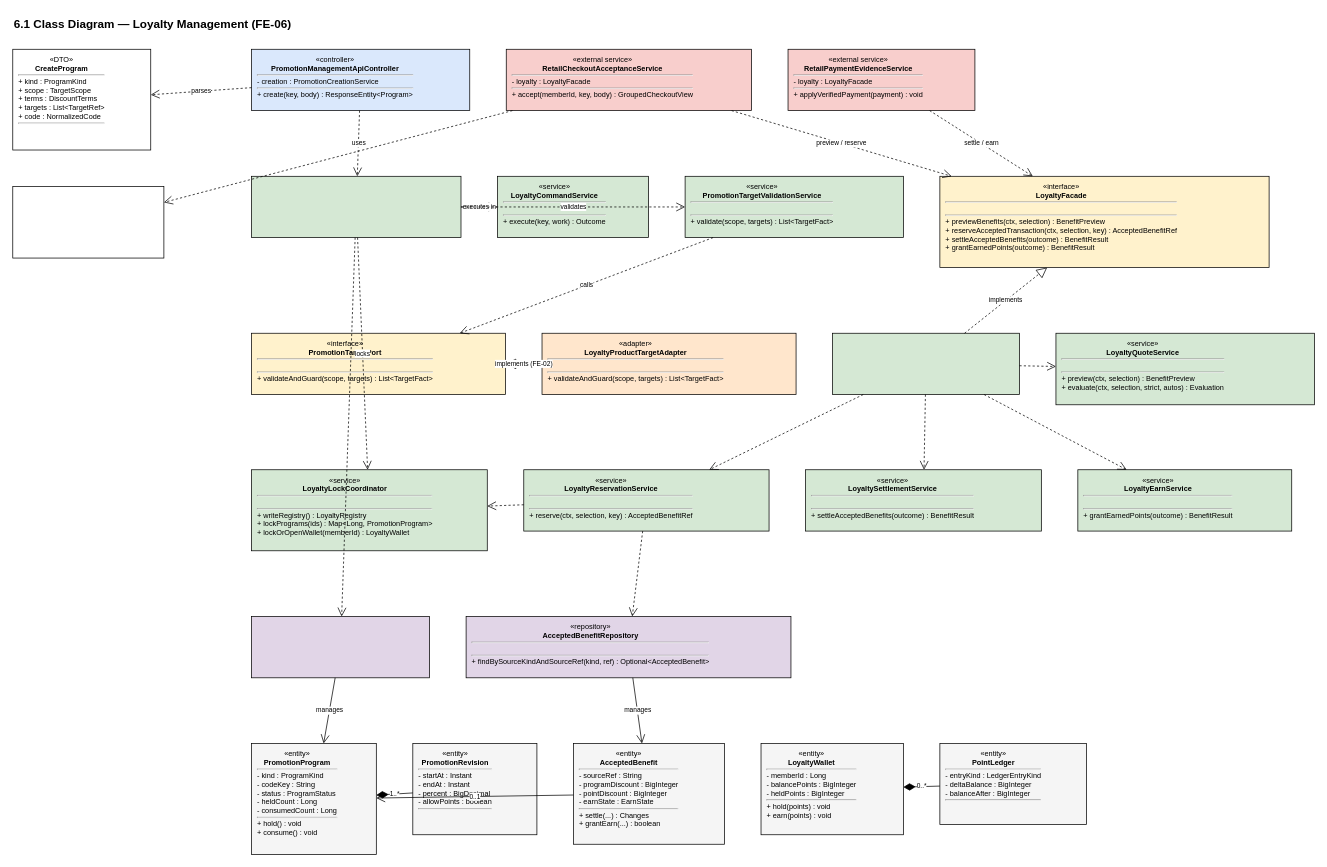
Some shapes in this 1327 by 867 pixel diagram are drawn without their labels. Here are the shapes that lost their labels. From the top down, the centre of each, then its label:
At point 88,222: "«DTO» BenefitSelection + voucherCode : String + requestedPoints : BigInteger".
At point 356,207: "«service» PromotionCreationService + create(managerRef, commandId, req) : long".
At point 925,364: "«service» DefaultLoyaltyFacade (implements all LoyaltyFacade methods)".
At point 340,647: "«repository» PromotionProgramRepository + existsByCodeKey(codeKey) : boolean".
